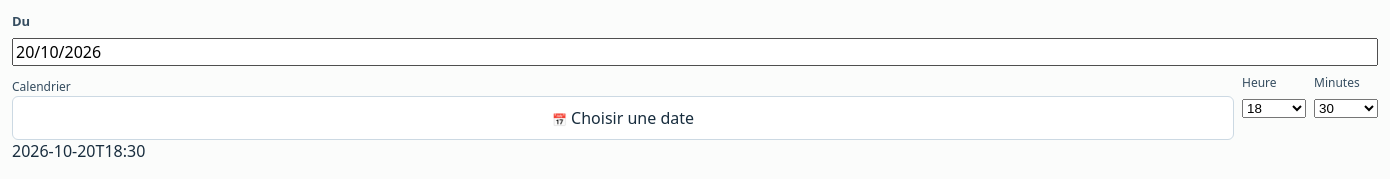
Scenario: affiche une date française et permet de choisir séparément heures et minutes
Expected: the field labelled "Du" holds "20/10/2026", [12,38,1378,66]
Expected: the dropdown named "Minutes de Du" shows "30", [1314,99,1378,118]
Select "21" in the dropdown named "Heure de Du" at (1274,108), box [1242,99,1306,118]
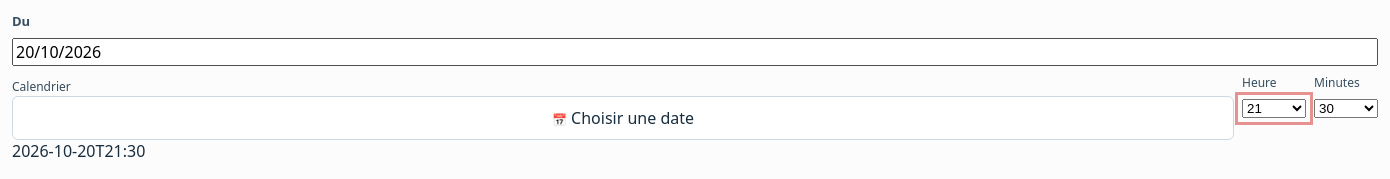
Select "45" in the dropdown named "Minutes de Du" at (1346,108), box [1314,99,1378,118]
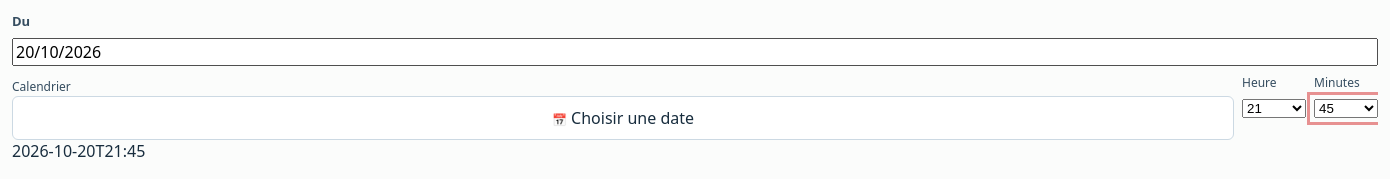
Expected: the text named "Valeur interne" reads "2026-10-20T21:45", [12,140,145,162]
